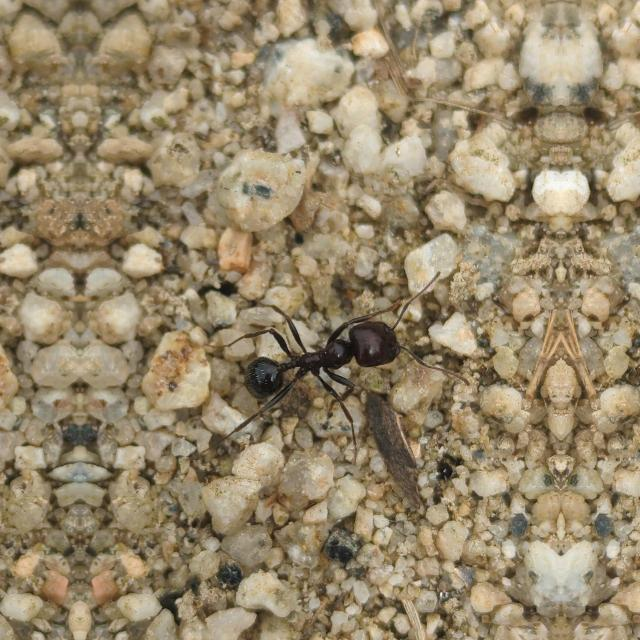Messor: (220, 286, 426, 428)
